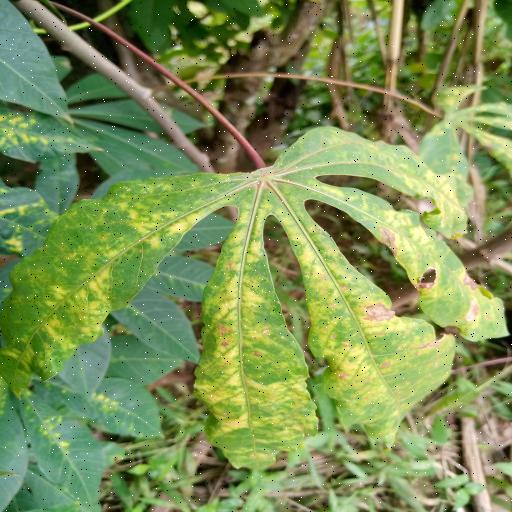Cassava_Mosaic: (0, 126, 504, 473)
